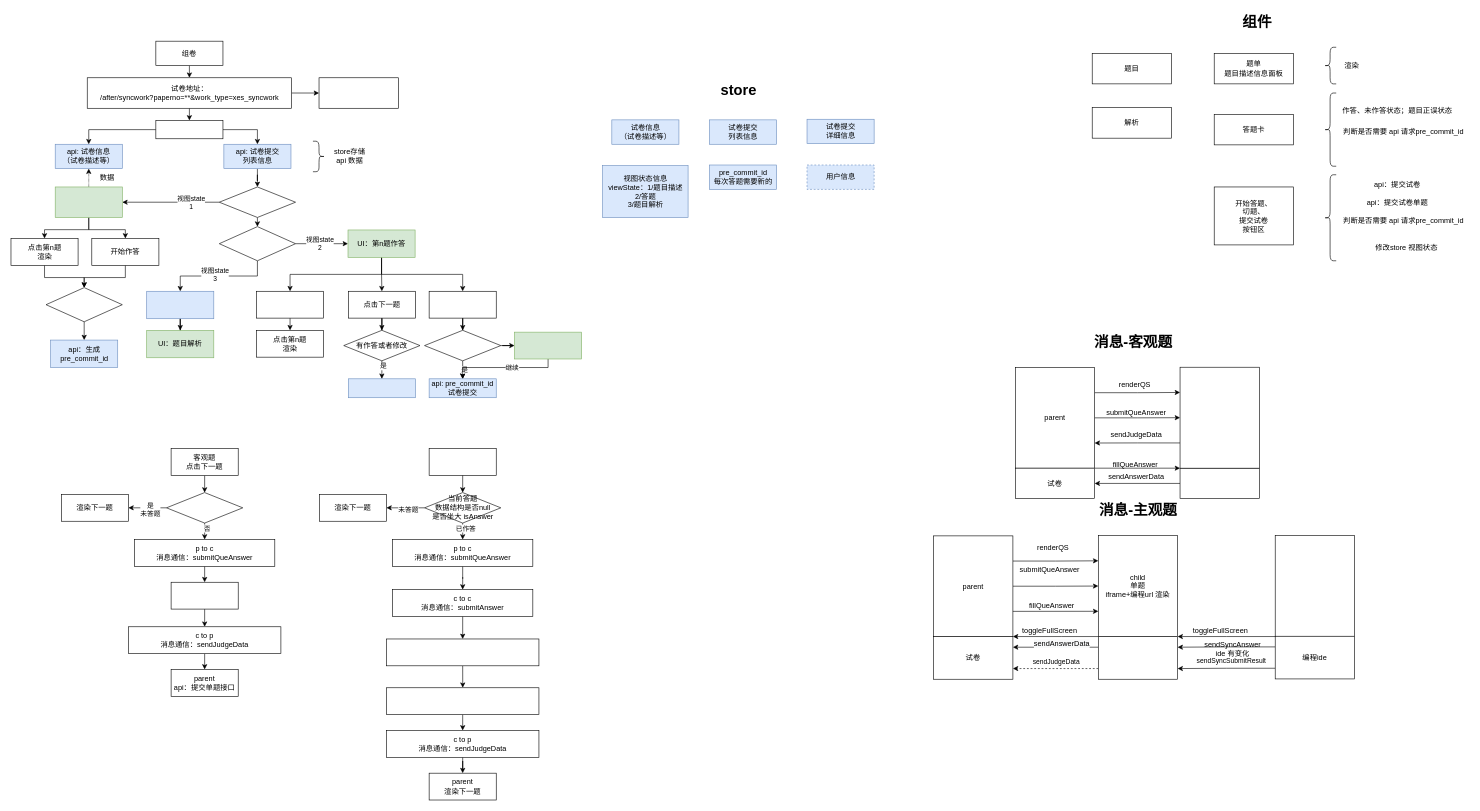
Image size: 1480x811. Some labels were removed from this diagram. Here are the shapes that lost their labels. From the top down, the centre of each, then its label:
the point at 358,92: 父子消息通信修改 message
the point at 189,129: 登录控制
the point at 88,201: UI：题目描述
the point at 257,201: 有无试卷提交记录
the point at 257,243: 最后一条 提交记录是否完成
the point at 83,304: 当前是否有pre_commit_id
the point at 180,305: api：试卷提交 详情信息
the point at 290,304: 点击上一题
the point at 462,304: 点击提交试卷
the point at 462,345: 全部作答
the point at 548,345: UI：提示有未作答
the point at 381,388: api: pre_commit_id 试卷提交单题
the point at 1219,417: child 单题 互动题渲染引擎
the point at 462,461: 主观题 点击下一题
the point at 1219,483: 客观题
the point at 204,507: 当前答题 数据结构是否null
the point at 204,595: sdk 判题
the point at 1315,586: child-child
the point at 462,652: 编程c api：提交单题接口 移除判题
the point at 1138,657: 主观题
the point at 462,701: 编程c to c 消息通信 sendSyncSubmitResult
